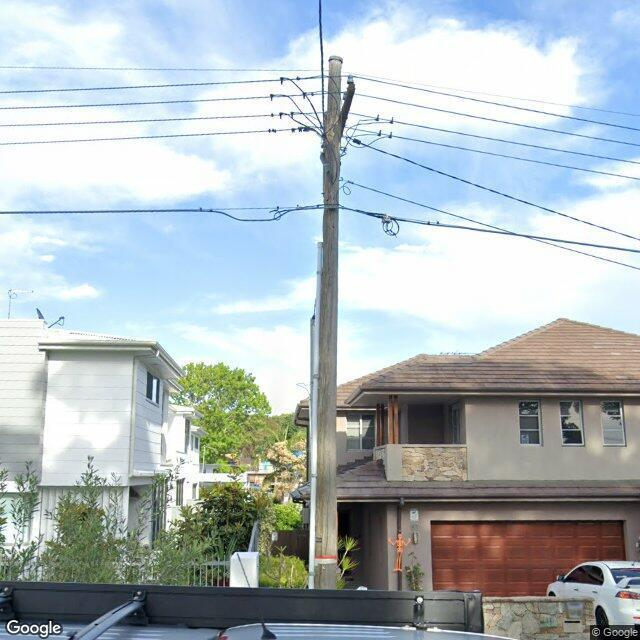crossarm: (341, 83, 356, 138)
timber-pole: (308, 56, 342, 589)
